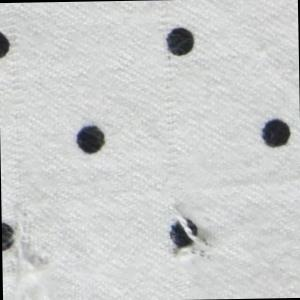Damage: (1, 188, 54, 300), (158, 200, 227, 268)
